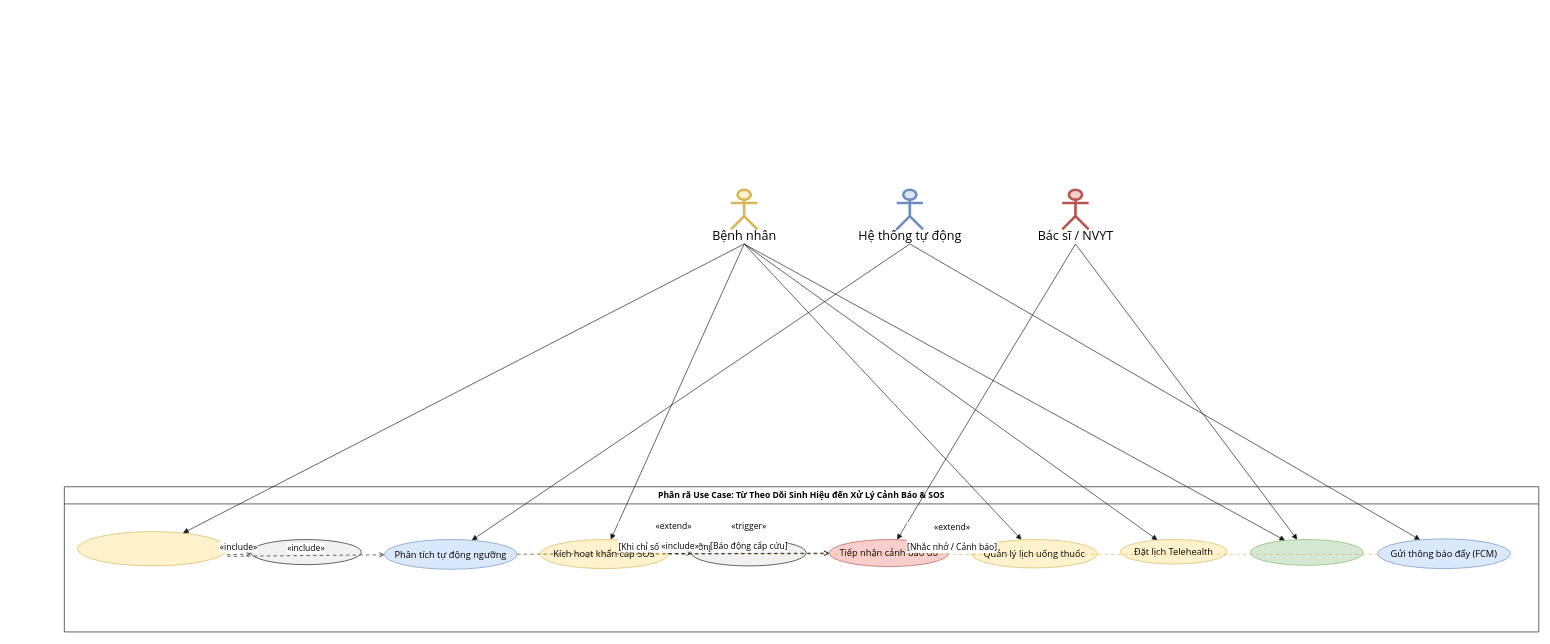
Image size: 1550x644. Some labels were removed from this diagram. Each missing label, with the box of its shape:
Lưu nhật ký 30 ngày: (250, 539, 361, 565)
Nhập chỉ số sinh hiệu (SpO2, Huyết áp, Tim): (77, 531, 227, 566)
Thực hiện Video Call: (1250, 539, 1363, 565)
Đính kèm tọa độ GPS: (691, 539, 806, 566)
